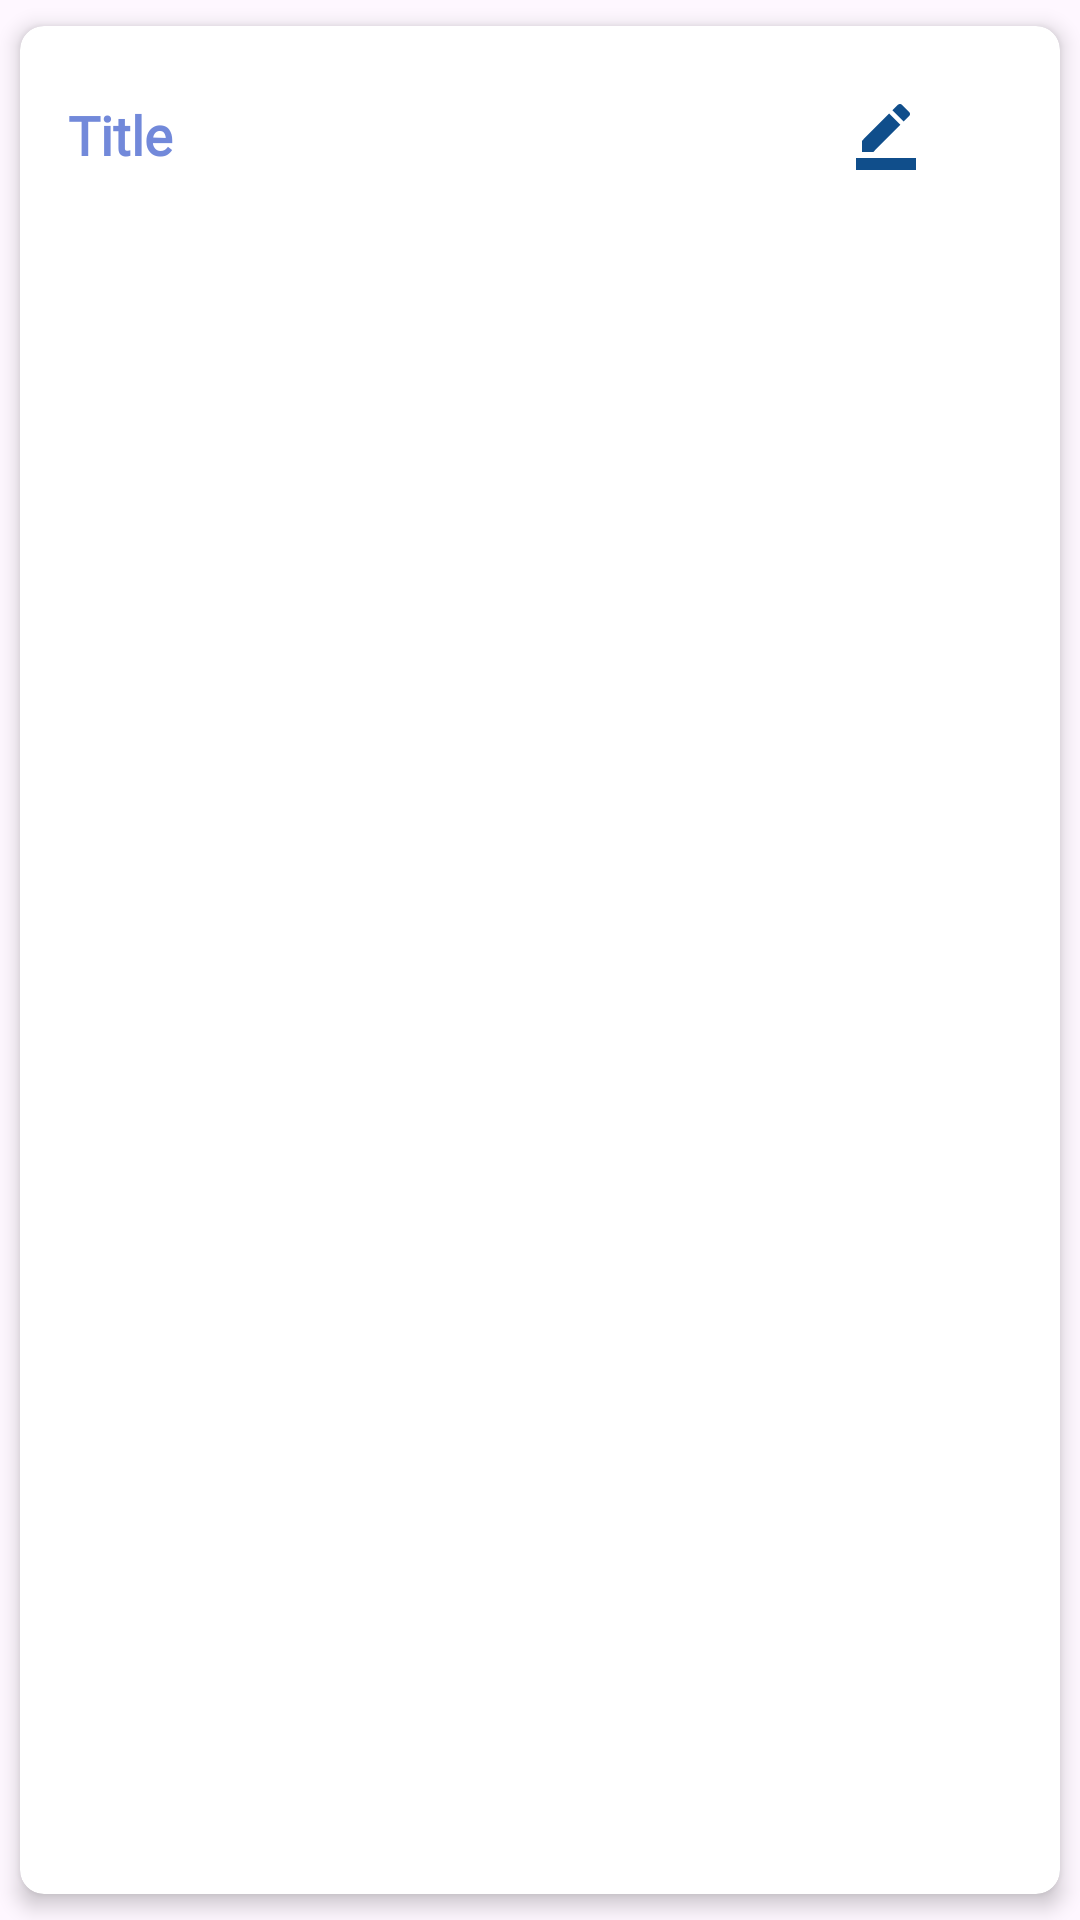

Icon click points for this 1080px x 1920px phone screenshot, format [x,y]:
edit: [886,137]
